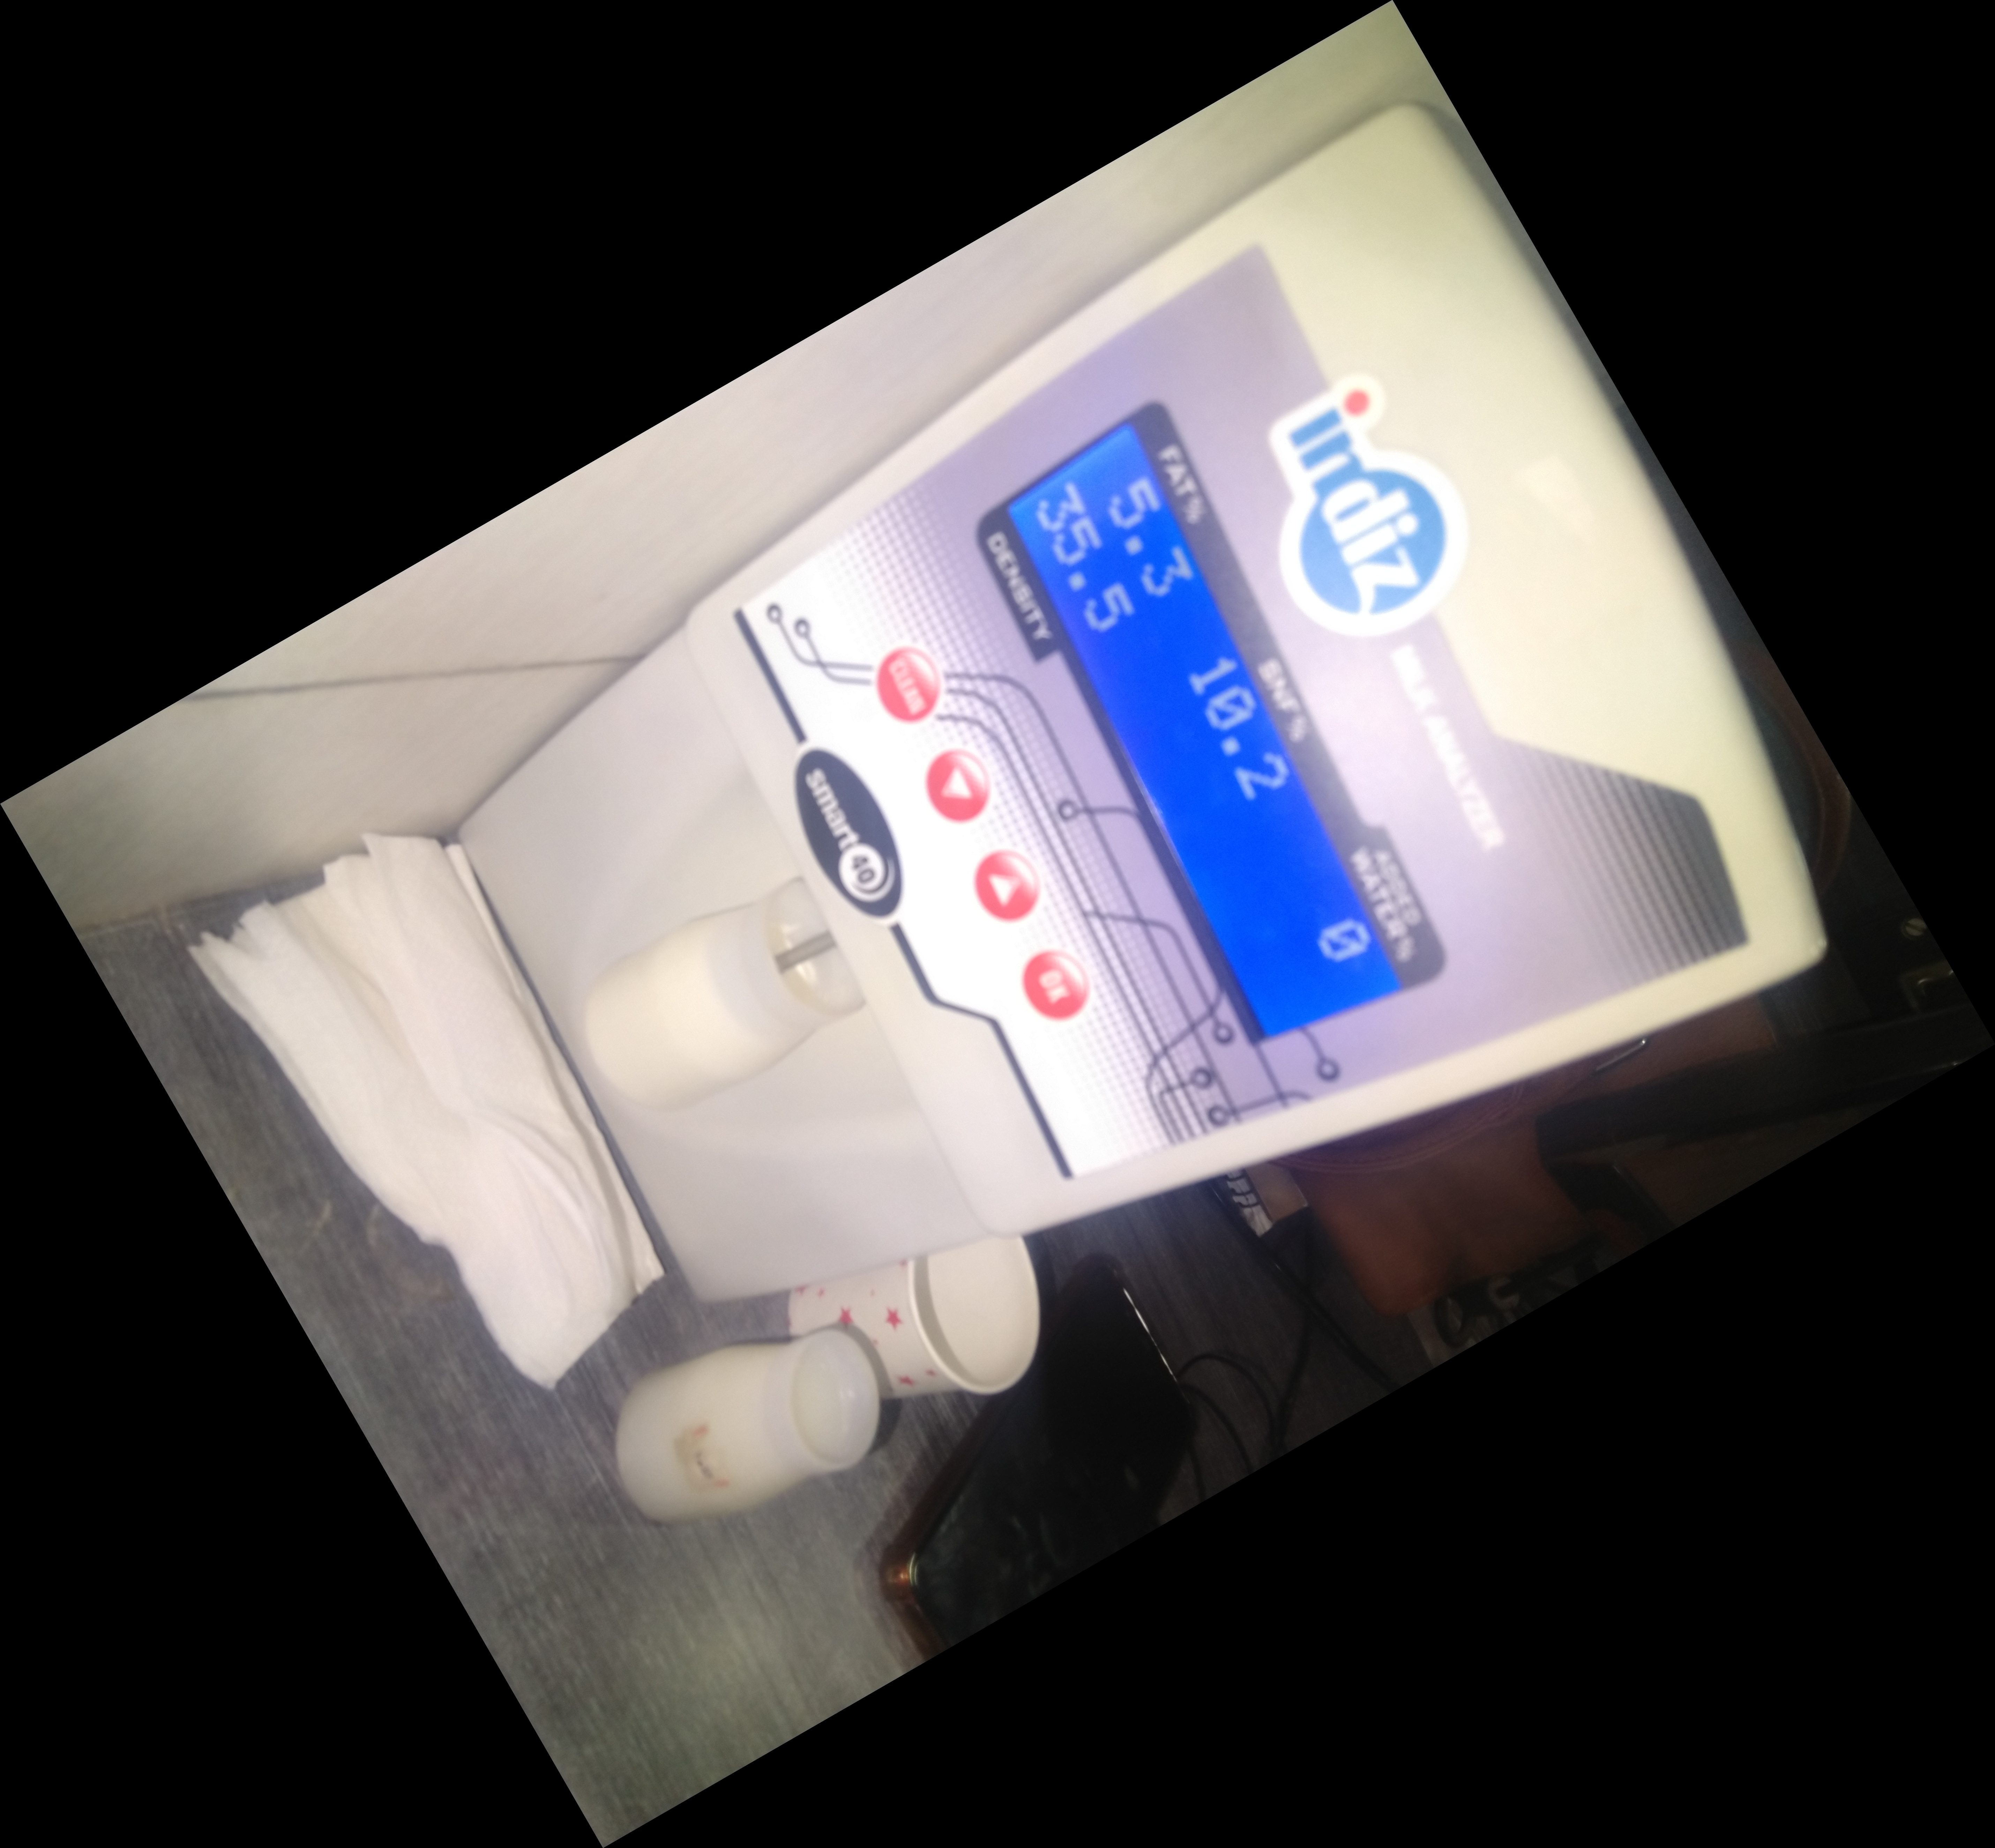lcd: (984, 400, 1470, 1052)
